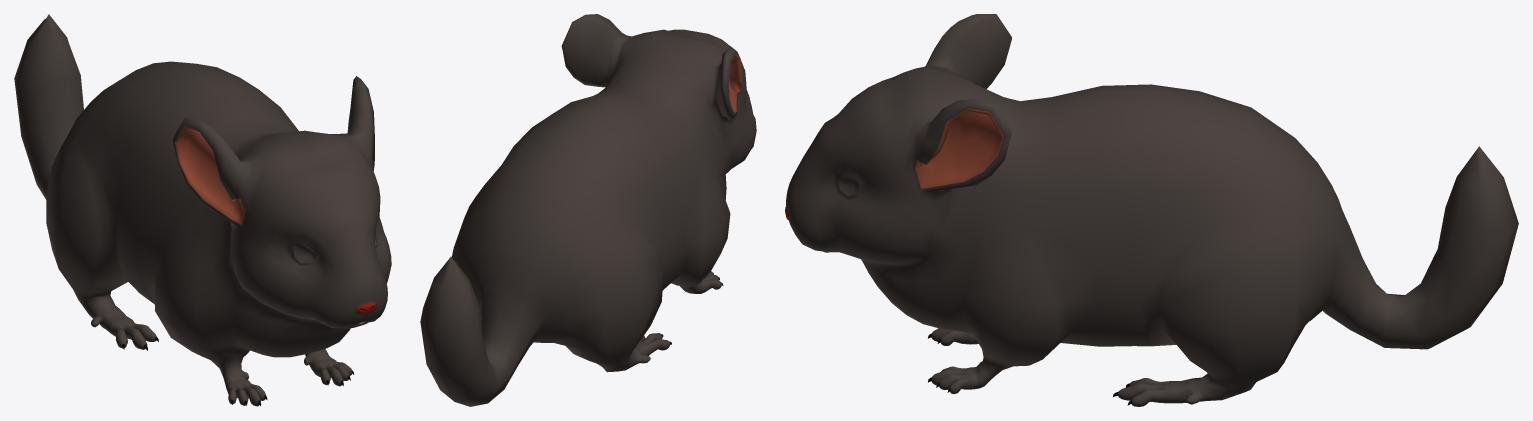
Rendered from chinchilla_chinchilla.obj.
3 views of the same model, side by side, from view 1: azimuth 30°, elevation 25°; view 2: azimuth 150°, elevation 25°; view 3: azimuth 270°, elevation 25° (orthographic). The views are drawn at different scales.
Parts seen in each view (by area): view 1: chinchilla; view 2: chinchilla; view 3: chinchilla.
Boxes of the visible parts, x1=… form: chinchilla: x1=14, y1=14, x2=391, y2=406; chinchilla: x1=420, y1=14, x2=756, y2=406; chinchilla: x1=785, y1=14, x2=1518, y2=406.
Bounding box in the file's own units: 0.1207 × 0.1526 × 0.33.
